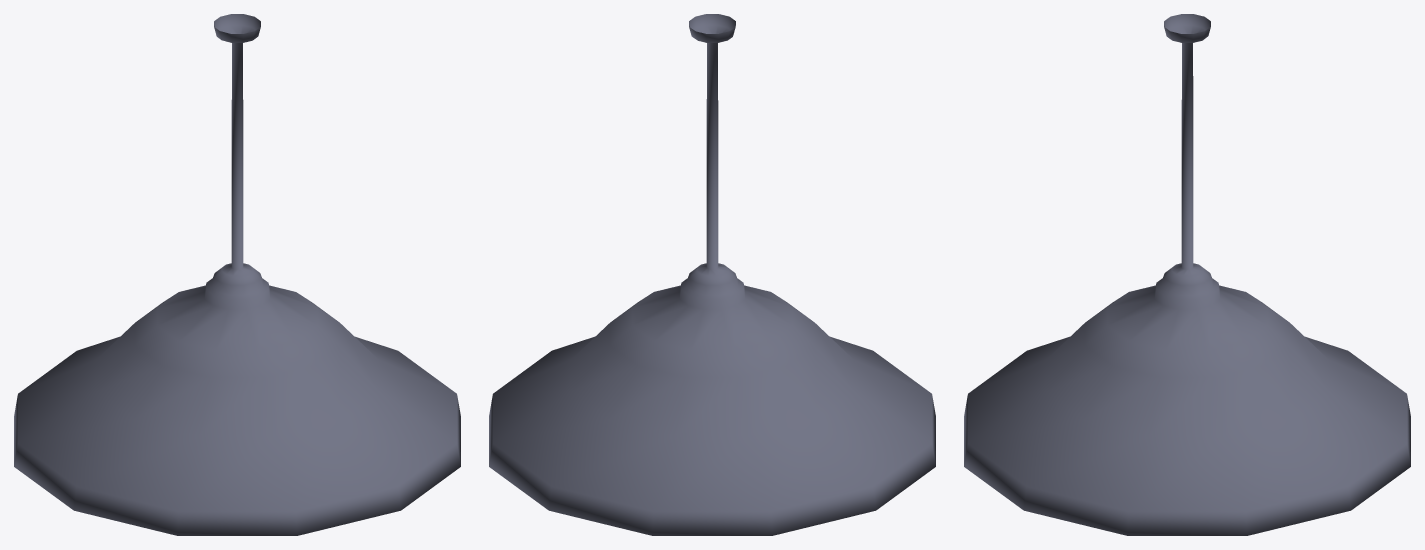
Rendered from lampeSpot.dae.
3 views of the same model, side by side, from view 1: azimuth 30°, elevation 25°; view 2: azimuth 150°, elevation 25°; view 3: azimuth 270°, elevation 25° (orthographic).
Parts seen in each view (by area): view 1: lampeSpot; view 2: lampeSpot; view 3: lampeSpot.
Part boxes in pixels (left/top/right/bottom): lampeSpot: left=14, top=14, right=460, bottom=535; lampeSpot: left=489, top=14, right=935, bottom=535; lampeSpot: left=964, top=14, right=1410, bottom=535.
Bounding box in the file's own units: 43.65 × 46.77 × 43.65.
